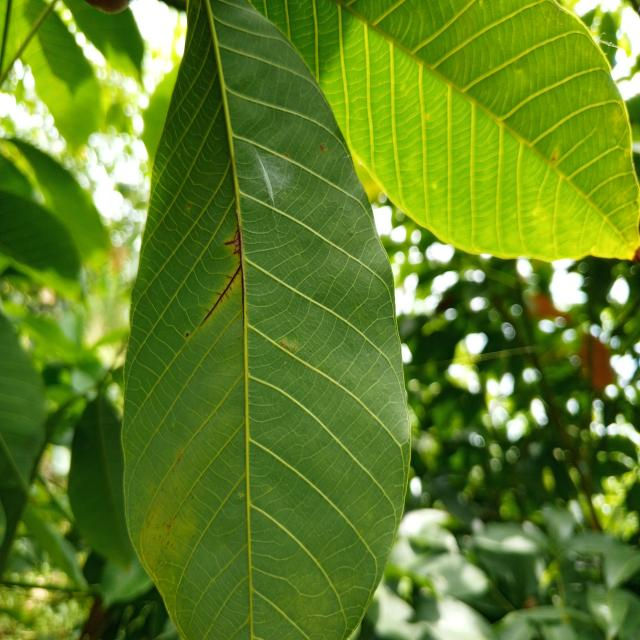Colletotrichum: (186, 332, 189, 337), (188, 204, 190, 208)
Corynespora: (222, 212, 245, 330), (199, 264, 241, 328)
